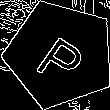P_NE: (29, 23, 91, 86)
